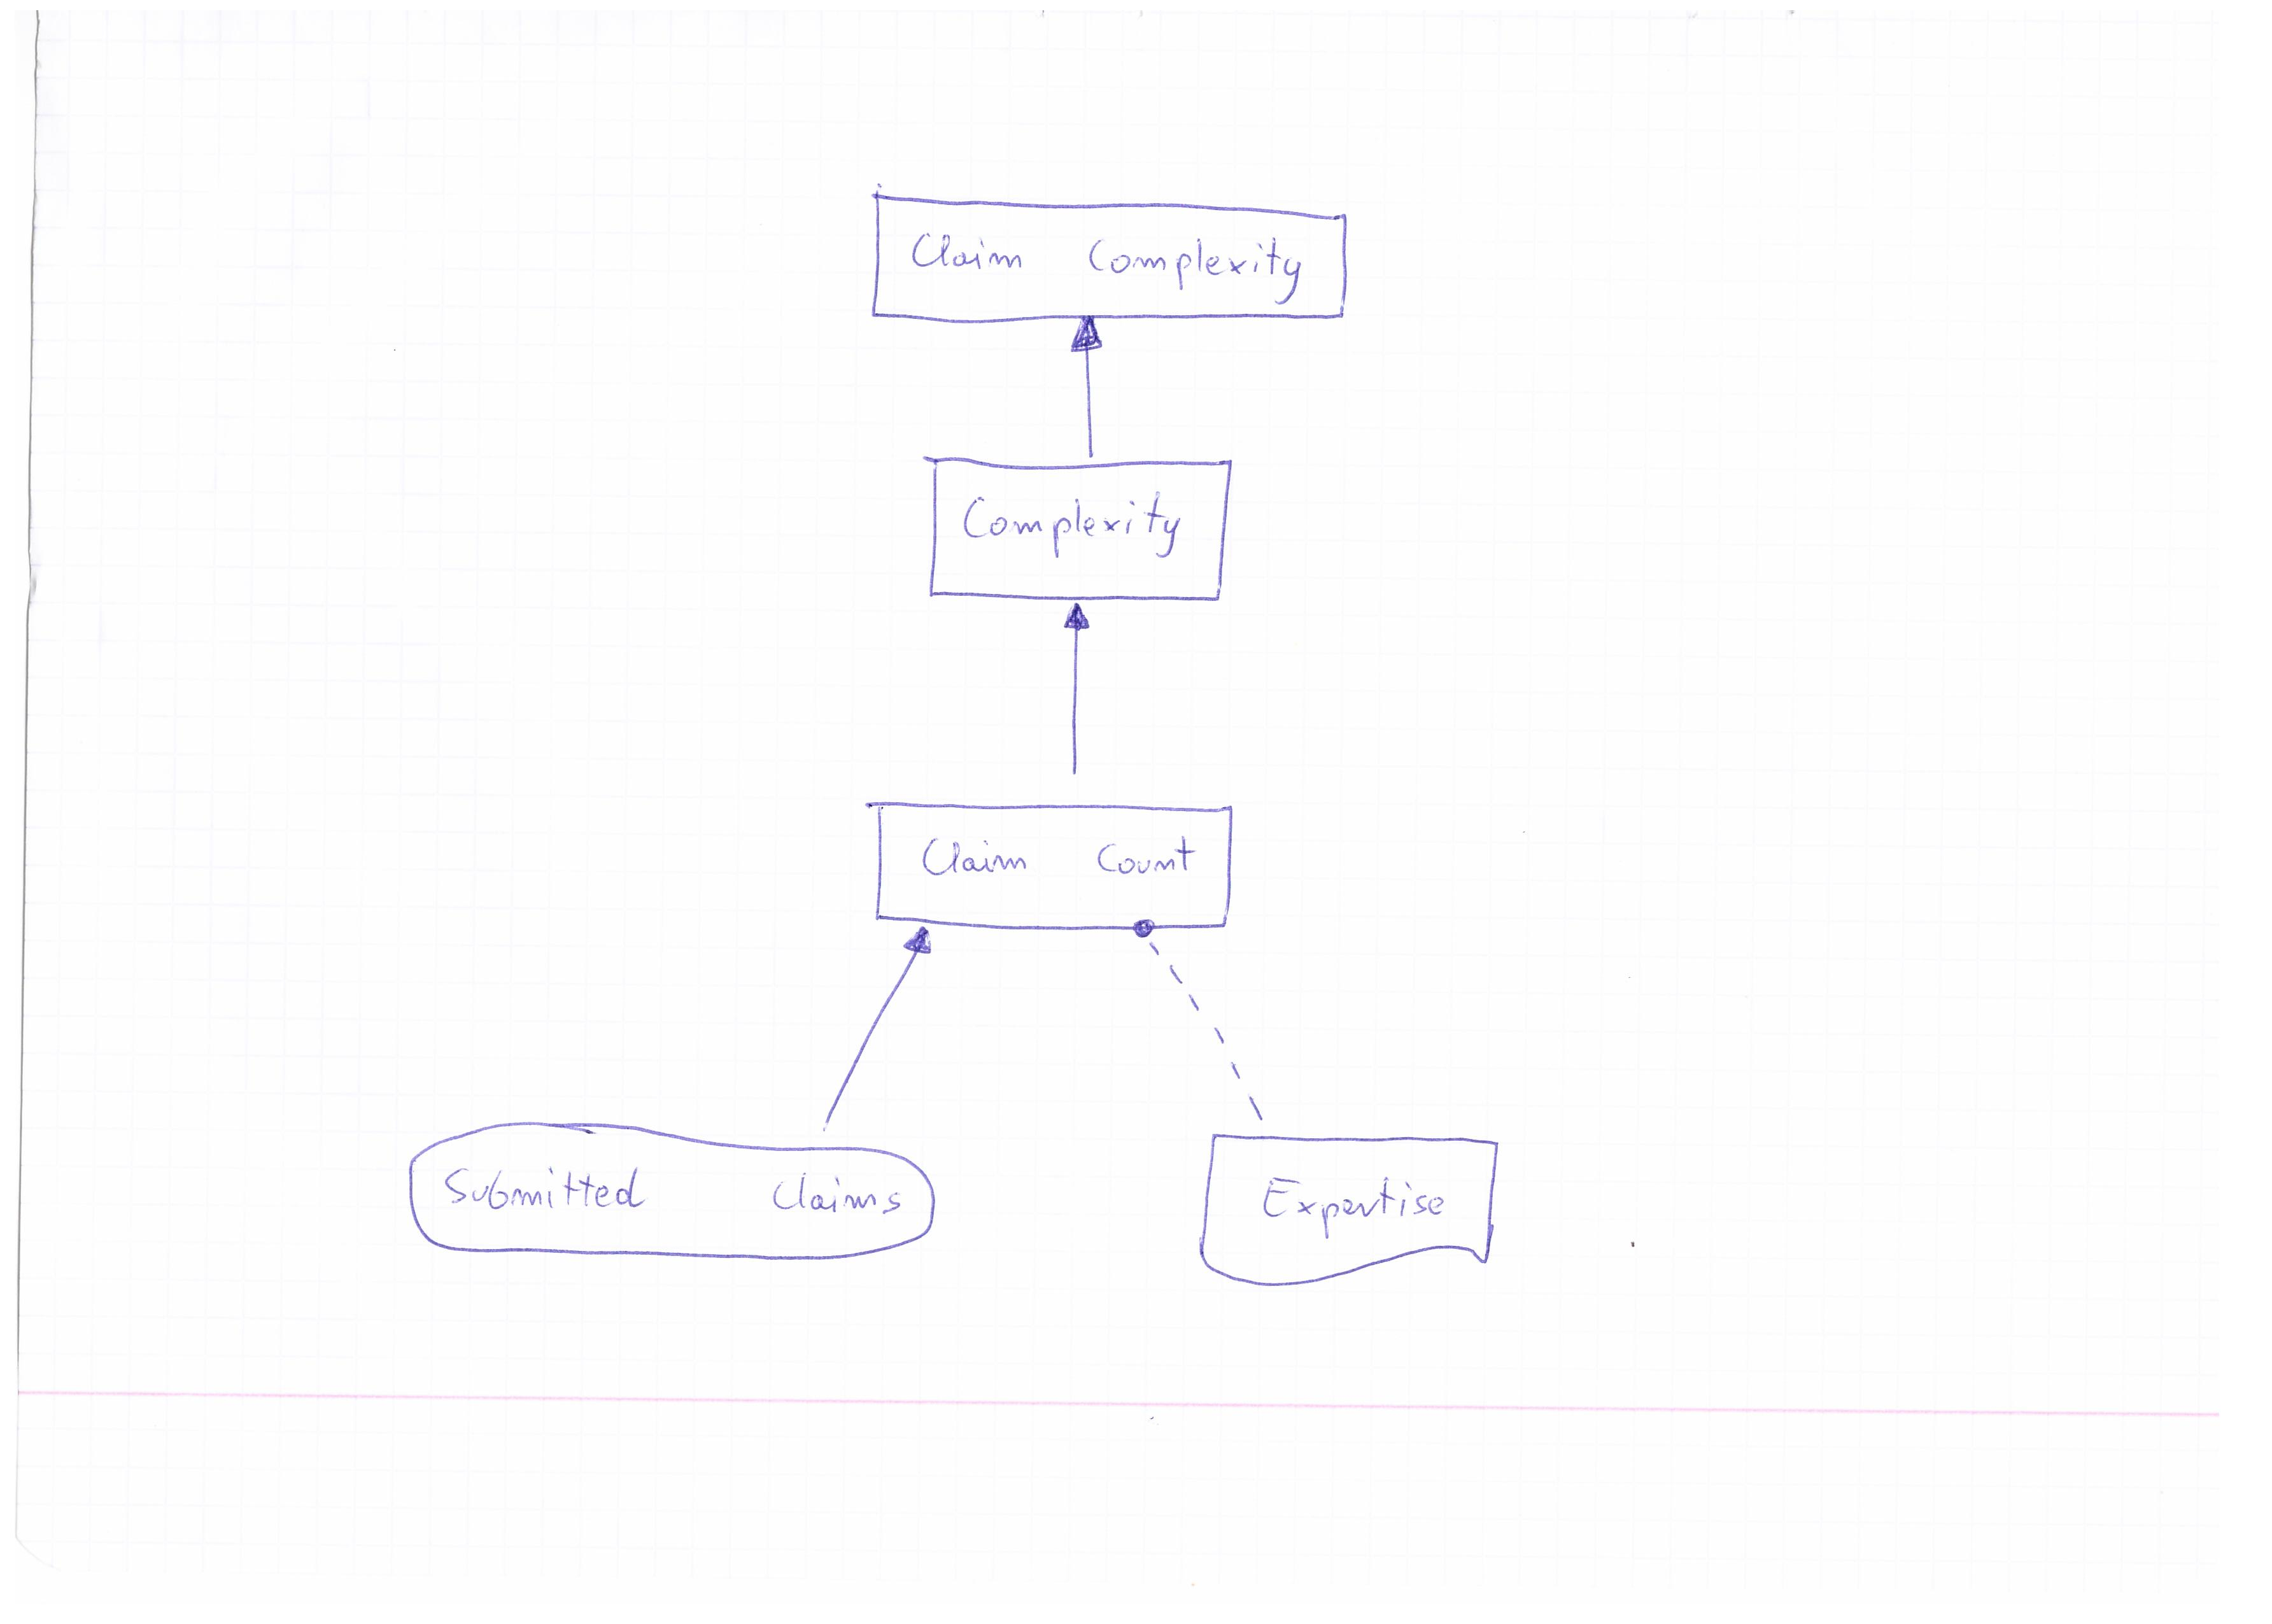arrow_authority_requirement: (1119, 914, 1288, 1134)
arrow_information_requirement: (800, 921, 940, 1135), (1054, 594, 1105, 786), (1060, 308, 1112, 462)
node_decision: (850, 174, 1355, 323), (850, 789, 1248, 932), (905, 448, 1246, 608)
node_input_data: (394, 1111, 958, 1281)
node_knowledge_source: (1197, 1123, 1508, 1299)
text: (900, 216, 1311, 308), (434, 1153, 908, 1229), (908, 816, 1216, 891), (954, 485, 1191, 566), (1251, 1160, 1471, 1239)
